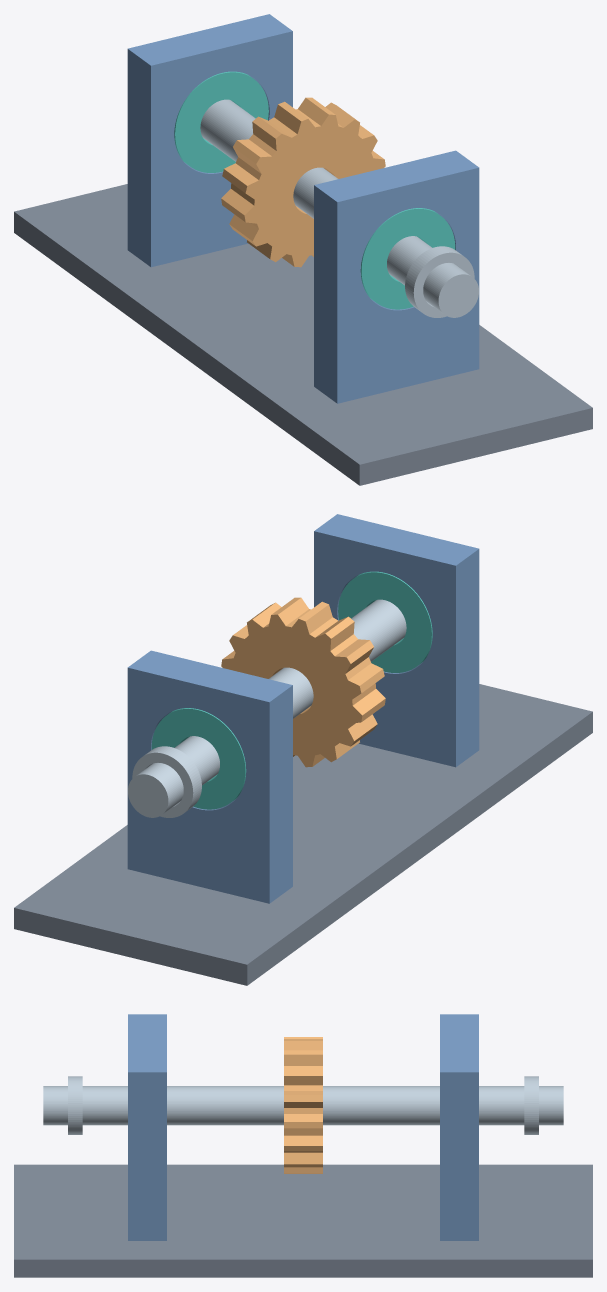
The model's file is assembly.glb.
3 renders of one model, top to bottom at view 1: azimuth 30°, elevation 25°; view 2: azimuth 150°, elevation 25°; view 3: azimuth 270°, elevation 25°, orthographic. The views are drawn at different scales.
Visible parts, largest first — view 1: base, rear_housing, front_housing, gear, shaft, front_bearing, rear_bearing, rear_retainer; view 2: base, front_housing, rear_housing, gear, shaft, rear_bearing, front_bearing, front_retainer; view 3: base, shaft, front_housing, rear_housing, gear, front_retainer, rear_retainer.
Part boxes in pixels (left/top/right/bottom): base: left=14, top=184, right=592, bottom=485; rear_housing: left=314, top=150, right=479, bottom=403; front_housing: left=127, top=14, right=292, bottom=267; gear: left=221, top=97, right=385, bottom=267; shaft: left=200, top=99, right=478, bottom=317; front_bearing: left=174, top=71, right=268, bottom=172; rear_bearing: left=360, top=208, right=455, bottom=309; rear_retainer: left=405, top=246, right=474, bottom=317; base: left=14, top=684, right=592, bottom=985; front_housing: left=127, top=650, right=292, bottom=903; rear_housing: left=314, top=514, right=479, bottom=767; gear: left=221, top=597, right=385, bottom=767; shaft: left=128, top=599, right=406, bottom=817; rear_bearing: left=338, top=571, right=432, bottom=672; front_bearing: left=151, top=708, right=246, bottom=809; front_retainer: left=132, top=746, right=201, bottom=817; base: left=14, top=1164, right=592, bottom=1277; shaft: left=43, top=1086, right=563, bottom=1125; front_housing: left=440, top=1014, right=478, bottom=1240; rear_housing: left=128, top=1014, right=166, bottom=1240; gear: left=284, top=1037, right=322, bottom=1173; front_retainer: left=524, top=1076, right=538, bottom=1134; rear_retainer: left=68, top=1076, right=82, bottom=1134.
Bounding box in the file's own units: 0.0429 × 0.0392 × 0.1102.
